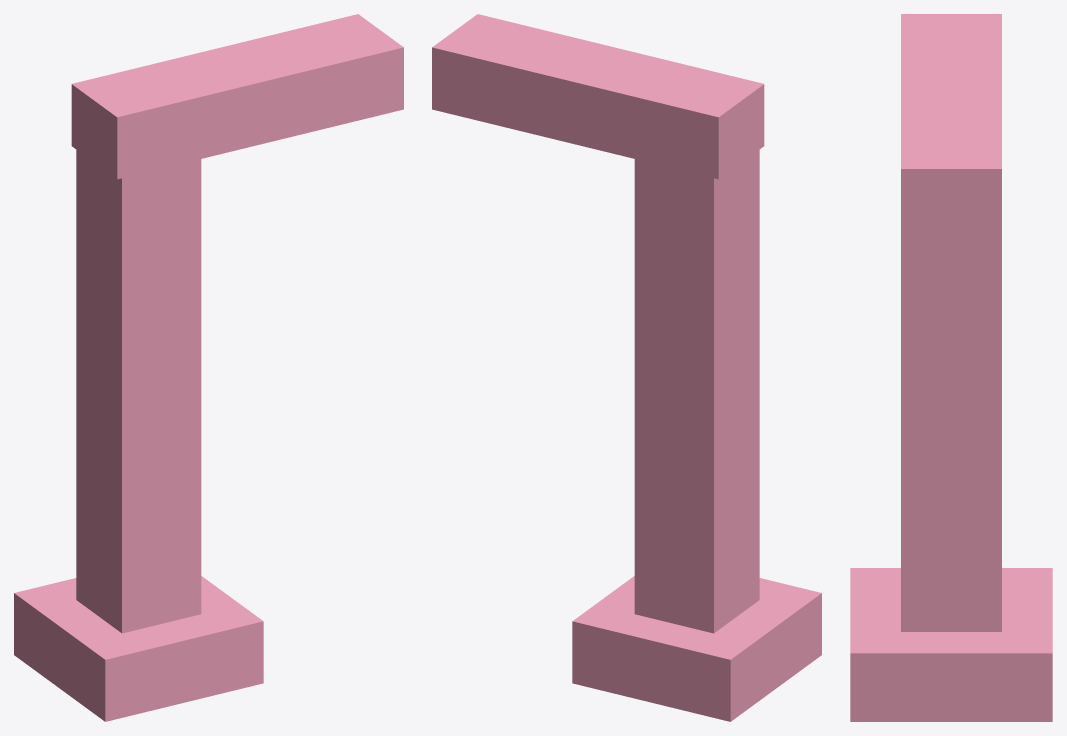
File: pendulo_base.gltf
3 renders of one model, left to right at view 1: azimuth 30°, elevation 25°; view 2: azimuth 150°, elevation 25°; view 3: azimuth 270°, elevation 25°, orthographic. The views are drawn at different scales.
Visible parts, largest first — view 1: Cube, Cube.002, Cube.001; view 2: Cube, Cube.002, Cube.001; view 3: Cube, Cube.001, Cube.002.
Part boxes in pixels (box(x1,y1,x2,y2)): Cube: box(76, 150, 201, 633); Cube.002: box(71, 14, 403, 179); Cube.001: box(14, 576, 263, 721); Cube: box(634, 150, 759, 633); Cube.002: box(432, 14, 764, 179); Cube.001: box(572, 576, 821, 721); Cube: box(901, 237, 1001, 631); Cube.001: box(850, 568, 1052, 721); Cube.002: box(901, 14, 1001, 237).
Bounding box in the file's own units: 0.65 × 1.12 × 0.32.
1 material, 1 textured.
